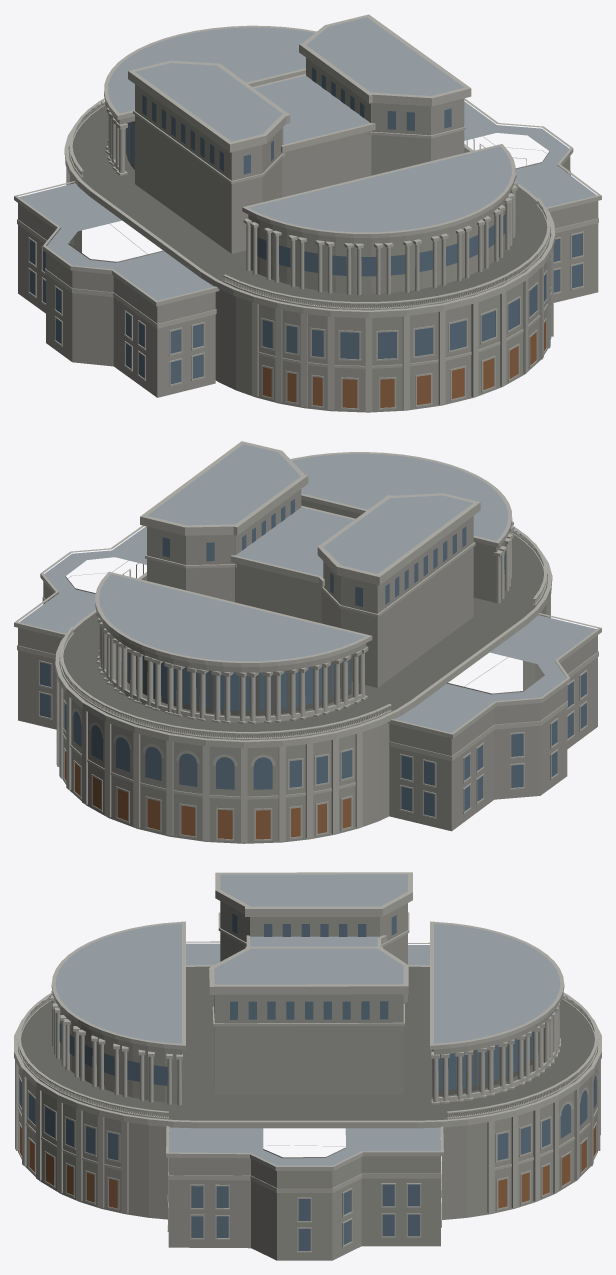
File: yerevan-opera.detail.glb
The picture shows the model from 3 angles, top to bottom: view 1: azimuth 30°, elevation 25°; view 2: azimuth 150°, elevation 25°; view 3: azimuth 270°, elevation 25°; orthographic projection. The views are drawn at different scales.
Visible parts, largest first — view 1: Armenian National Opera and Ballet Theatre; view 2: Armenian National Opera and Ballet Theatre; view 3: Armenian National Opera and Ballet Theatre.
Boxes of the visible parts, x1,y1,x2,y2 form: Armenian National Opera and Ballet Theatre: (14,14,601,412); Armenian National Opera and Ballet Theatre: (14,441,601,843); Armenian National Opera and Ballet Theatre: (14,872,601,1260).
Size of the model in its own units: 102 by 42 by 106.
